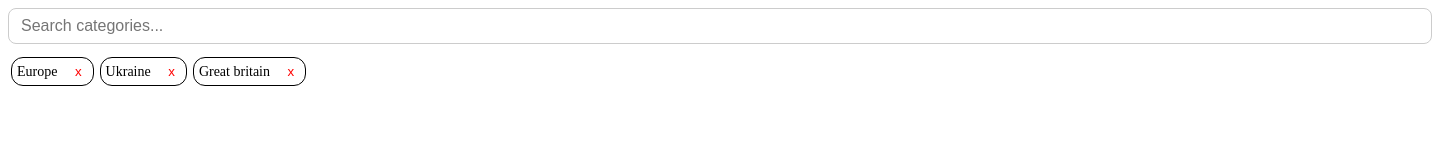
Test: CategoryTree.vue › removes a selected category when the remove button is clicked
Click the button "x" next to "Europe": (78, 72) 69,63 -> 88,80
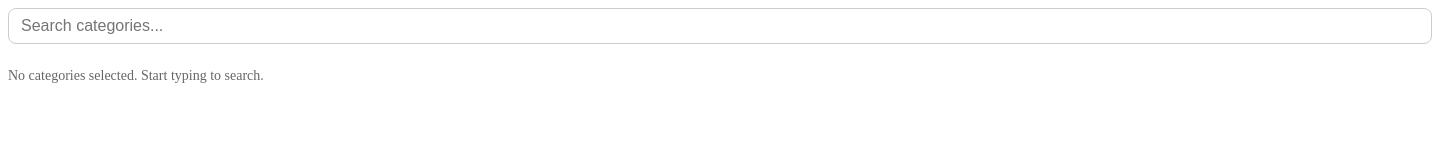
expect the text "No categories selected. Start typing to search." is shown: met, box 8,68 -> 264,83
